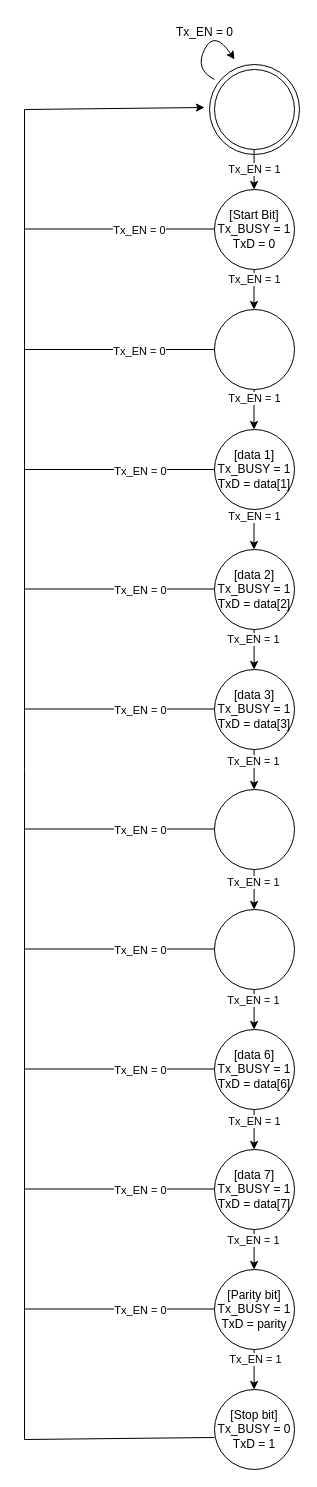
Some shapes in this 317 by 1487 pixel diagram are drawn without their labels. The box of each missing label's shape, as (x1, y1, x2, y2) in pixels:
[data 0] Tx_BUSY = 1 TxD = data[0]: (214, 308, 294, 390)
[data 4] Tx_BUSY = 1 TxD = data[4]: (214, 788, 294, 870)
[data 5] Tx_BUSY = 1 TxD = data[5]: (214, 908, 294, 990)
[Waiting] Tx_BUSY = 0 TxD = 1: (208, 64, 300, 154)
